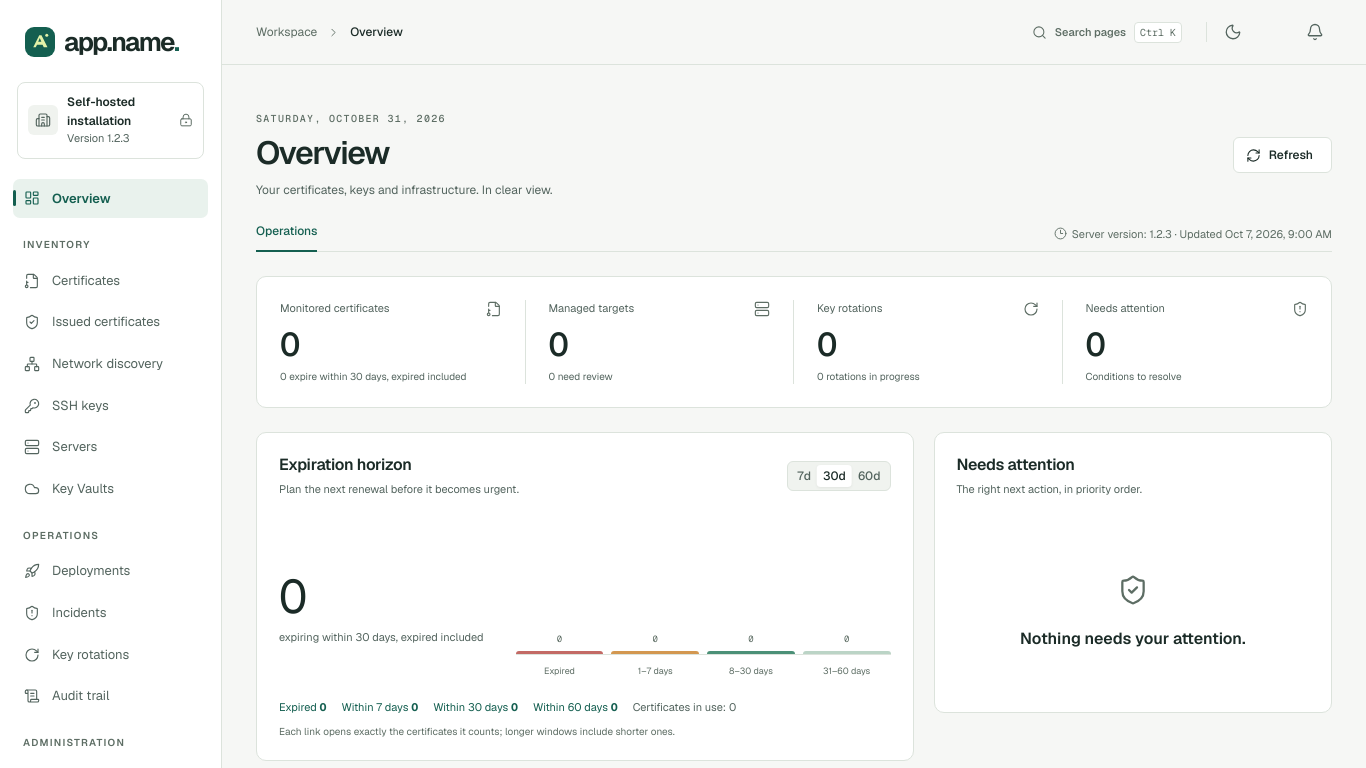
Test: command palette › opens a page by its link, and Escape closes the palette and forgets the query
Click the button "Search pages Ctrl K": (1109, 32) [1021,17,1197,47]
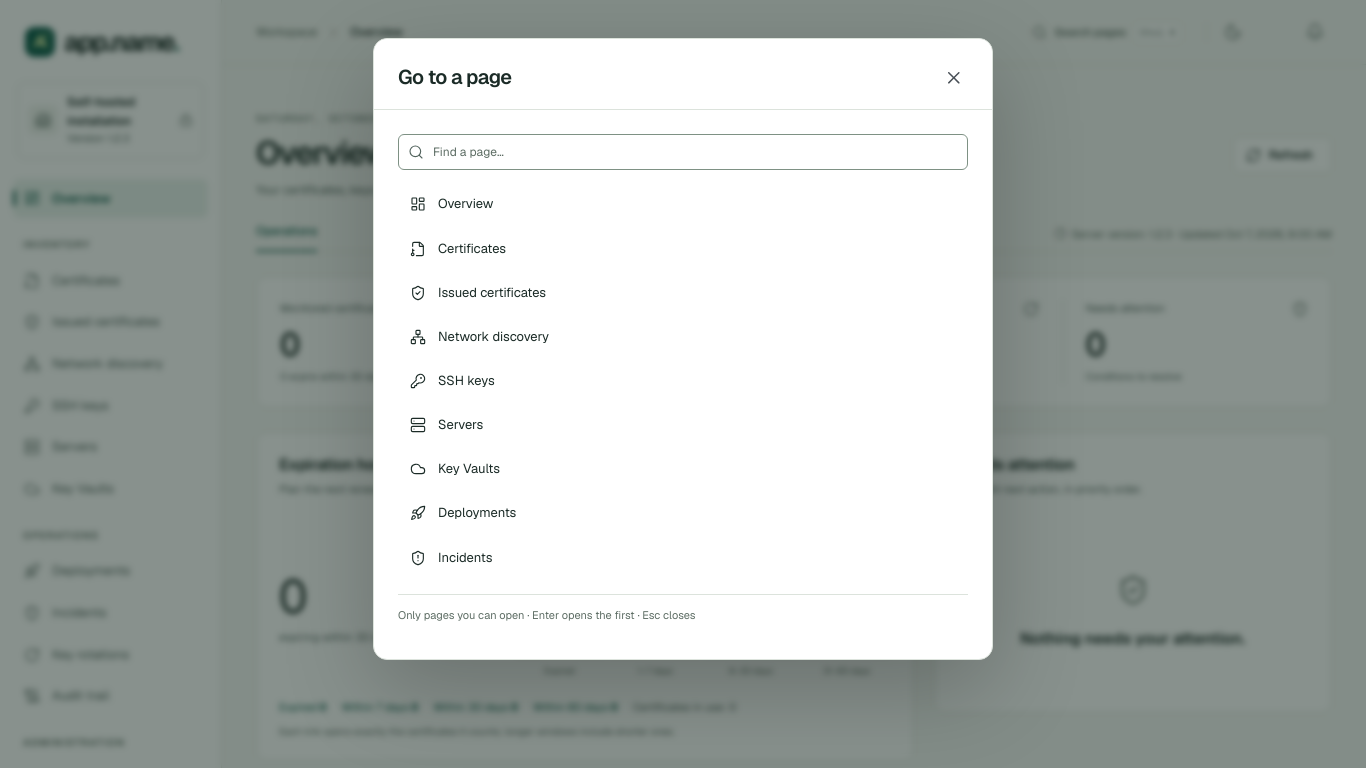
In the field labelled "Find a page…": (683, 152) [398,134,968,170], type "lic"
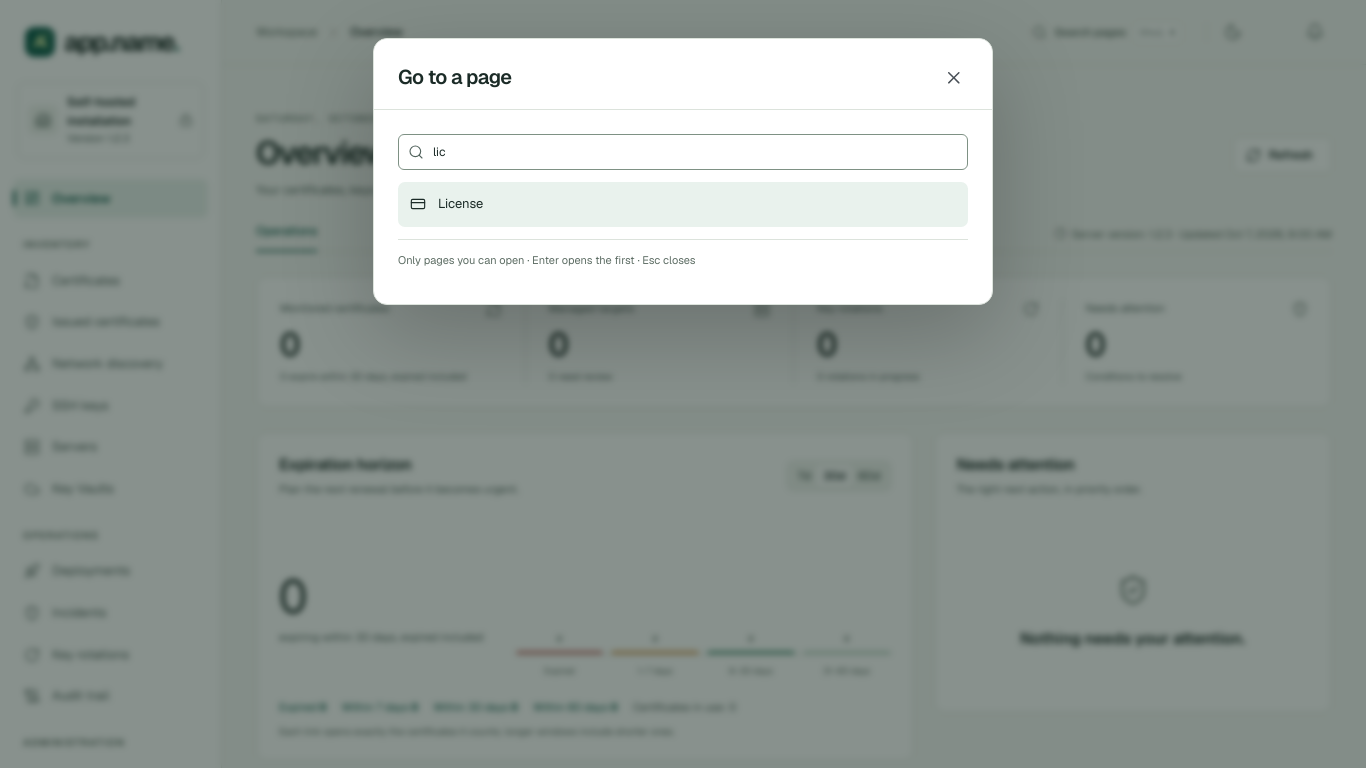
Press Escape
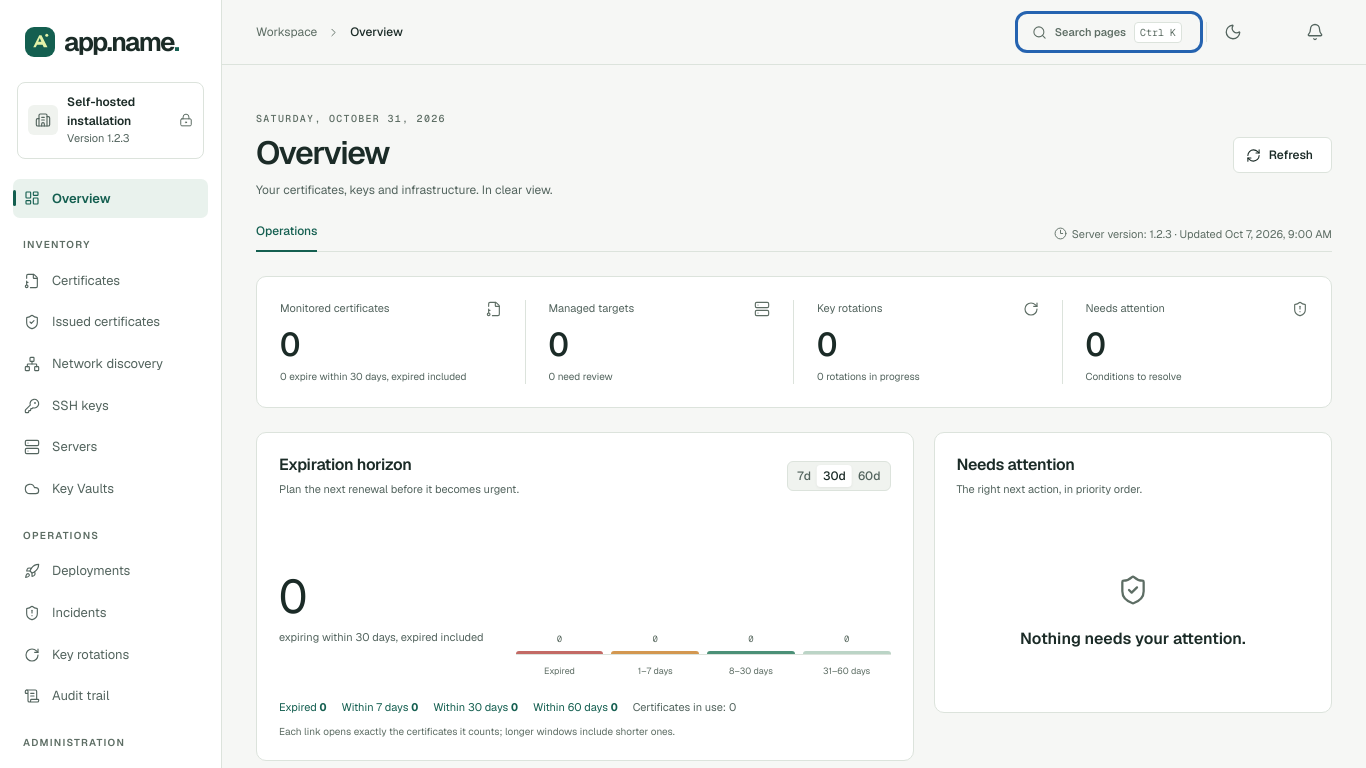
Expected: the heading "Go to a page" is gone
Click the button "Search pages Ctrl K": (1109, 32) [1021,17,1197,47]
(page scrolled)
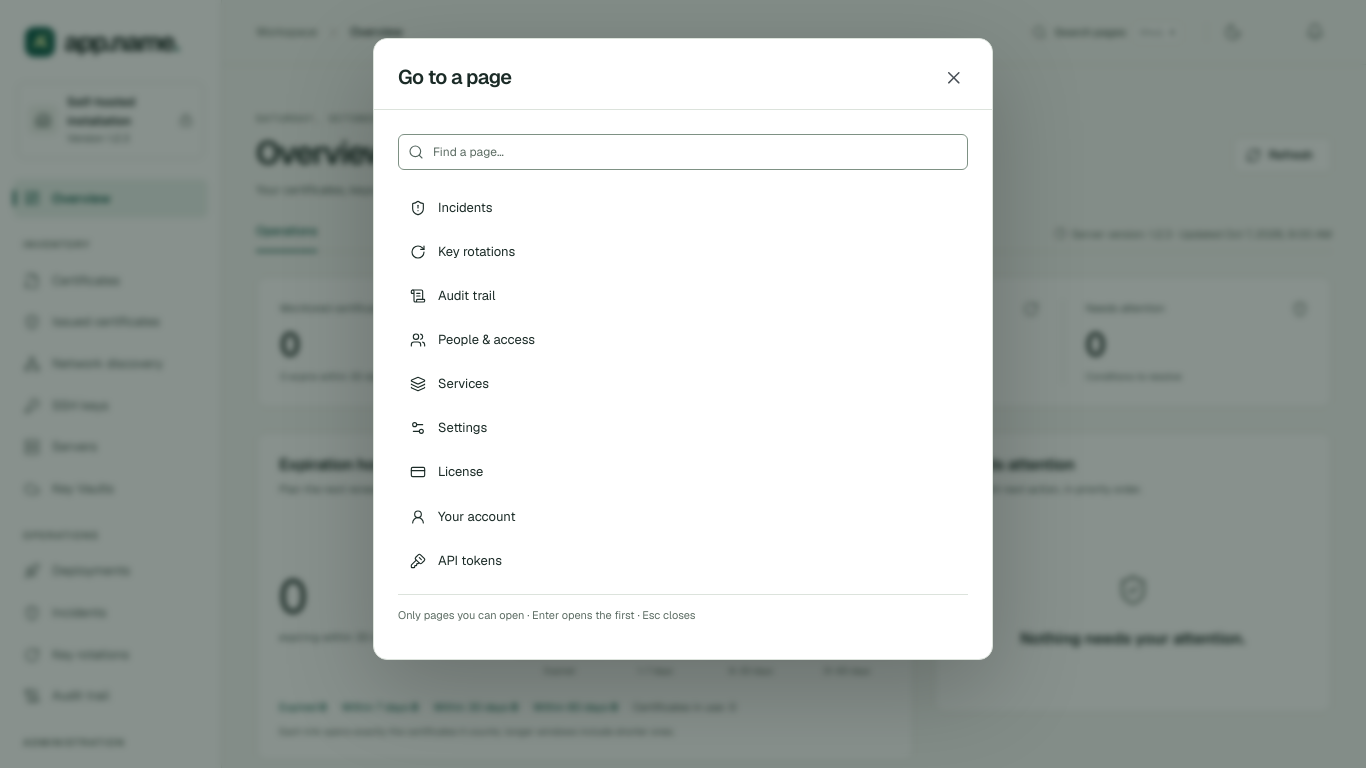
Expected: the field labelled "Find a page…" is empty, [398,134,968,170]
Expected: the dialog "Go to a page" shows "Only pages you can open", [398,608,696,622]
Click the link "License": (447, 472) [410,463,483,480]
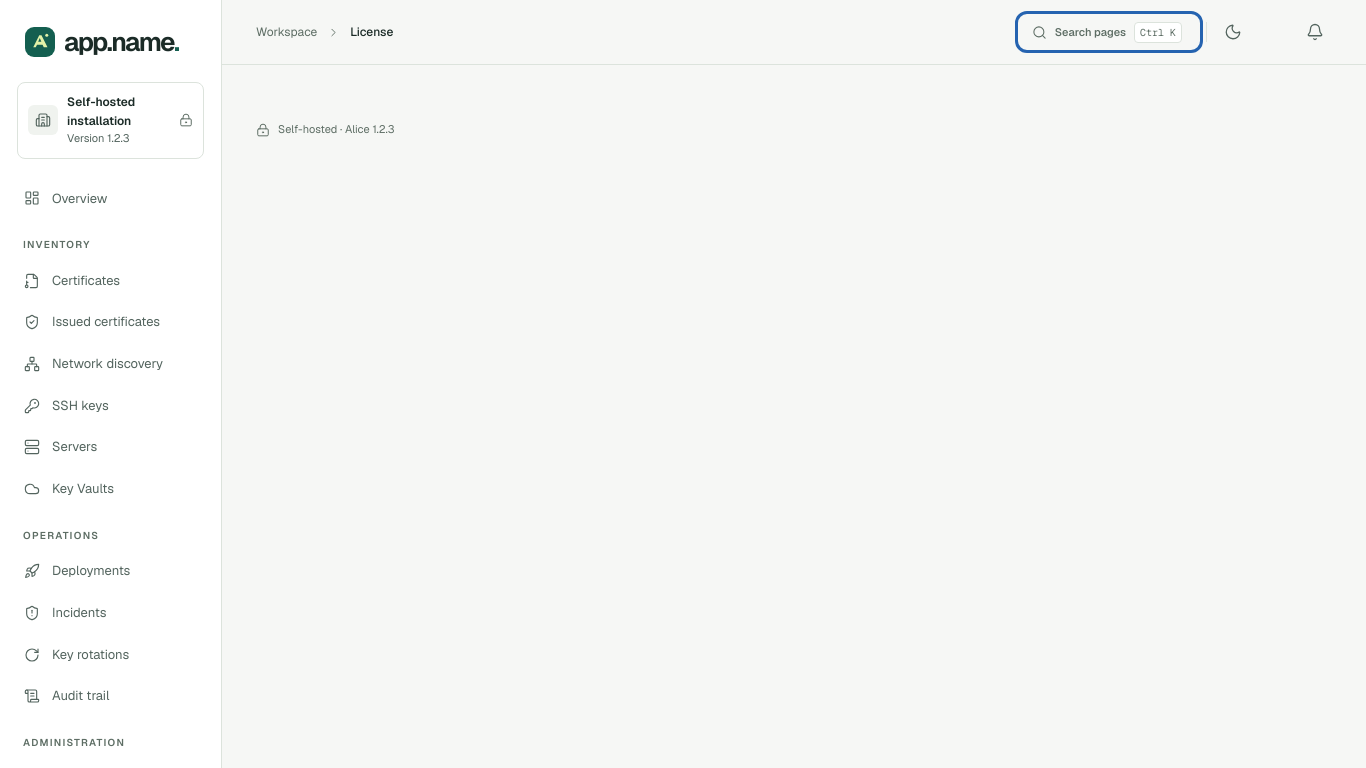
Expected: the heading "Go to a page" is gone
